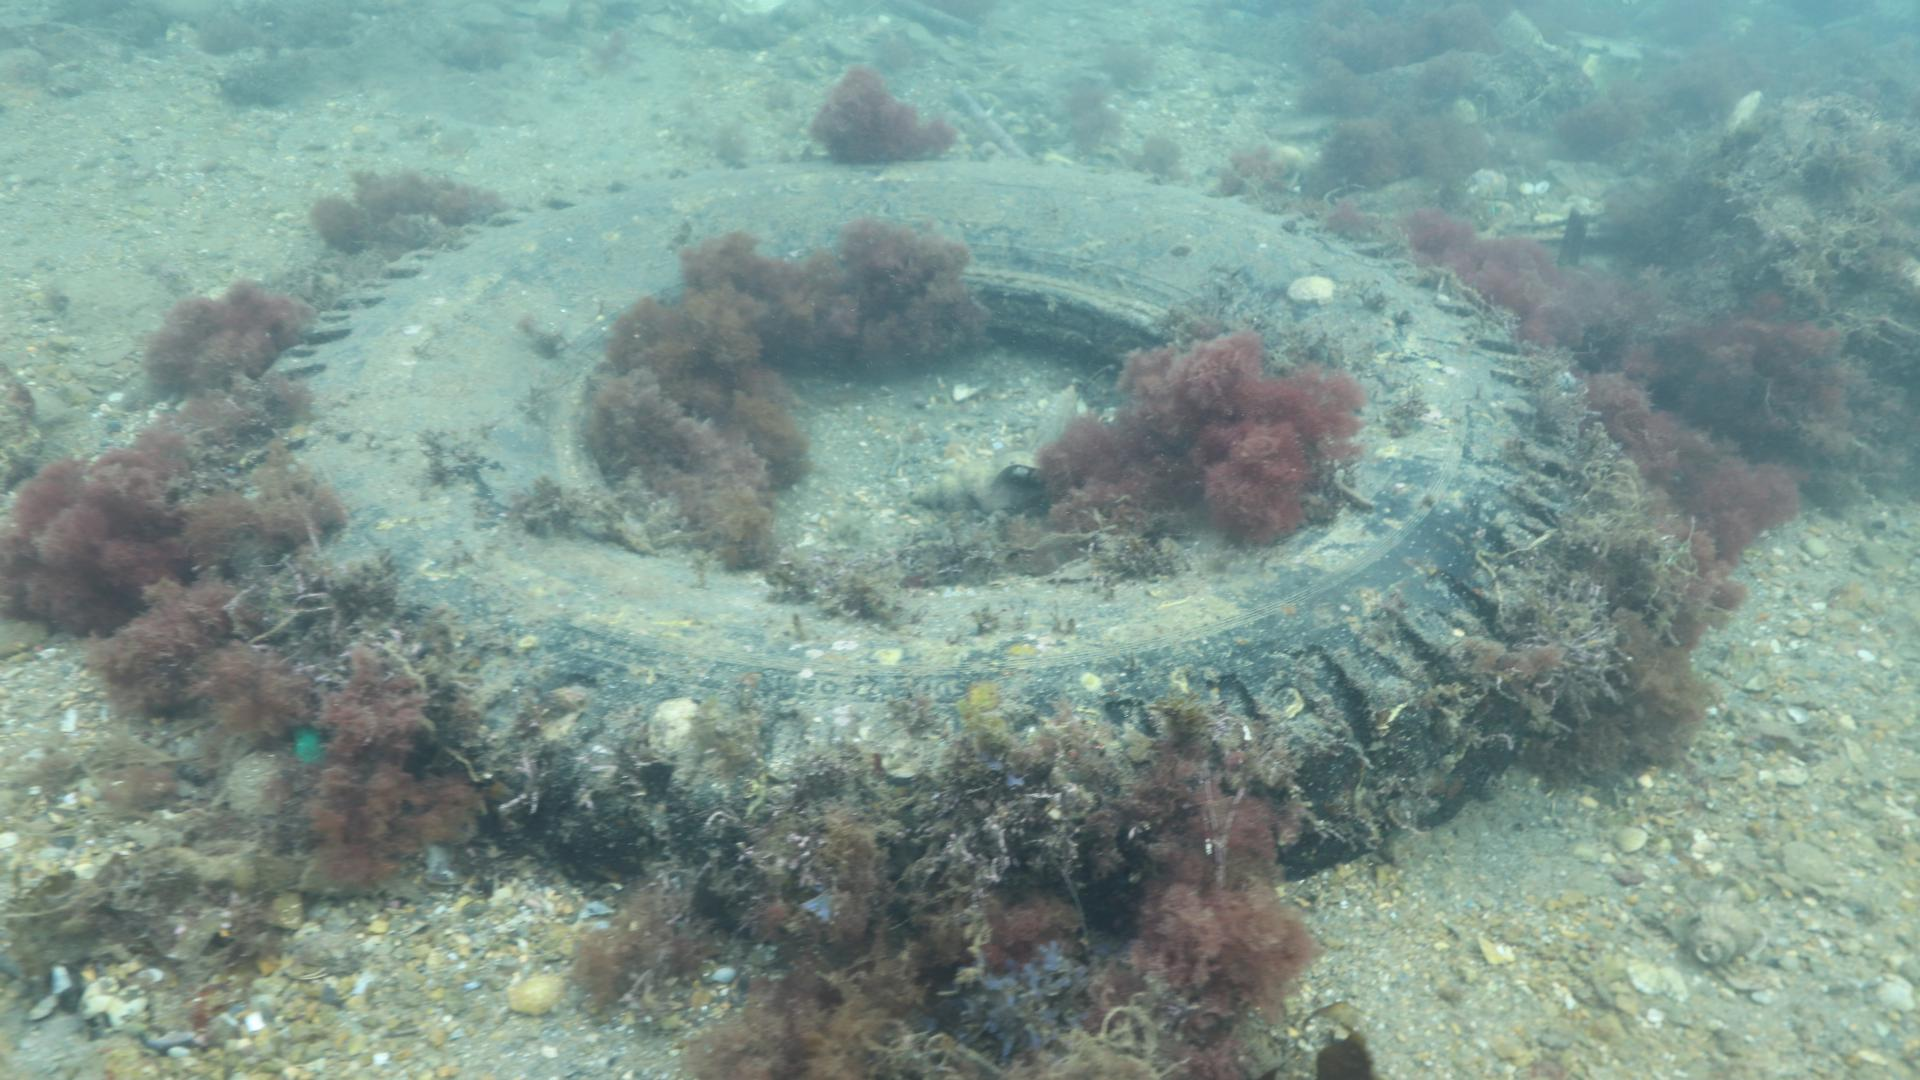tire: (255, 152, 1584, 919)
